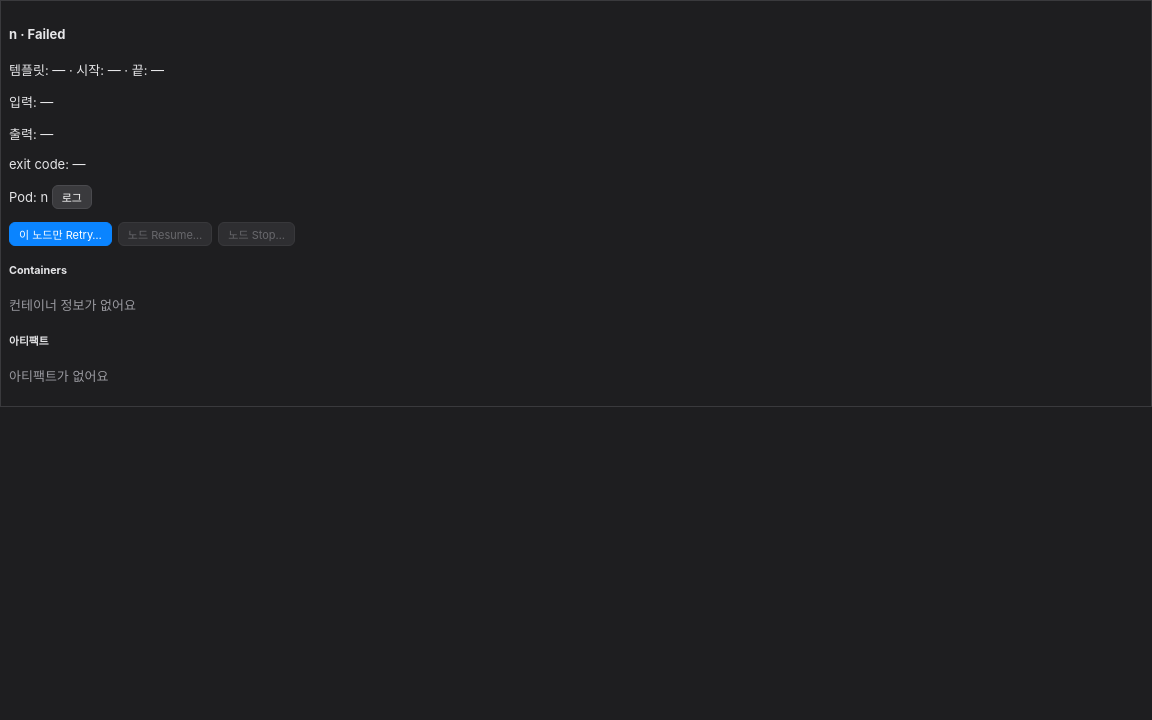
실패하면 대화상자에 서버 메시지를 보이고 닫지 않는다
The image size is (1152, 720).
Click the button "이 노드만 Retry…".
click(60, 234)  # box left=9, top=222, right=112, bottom=246
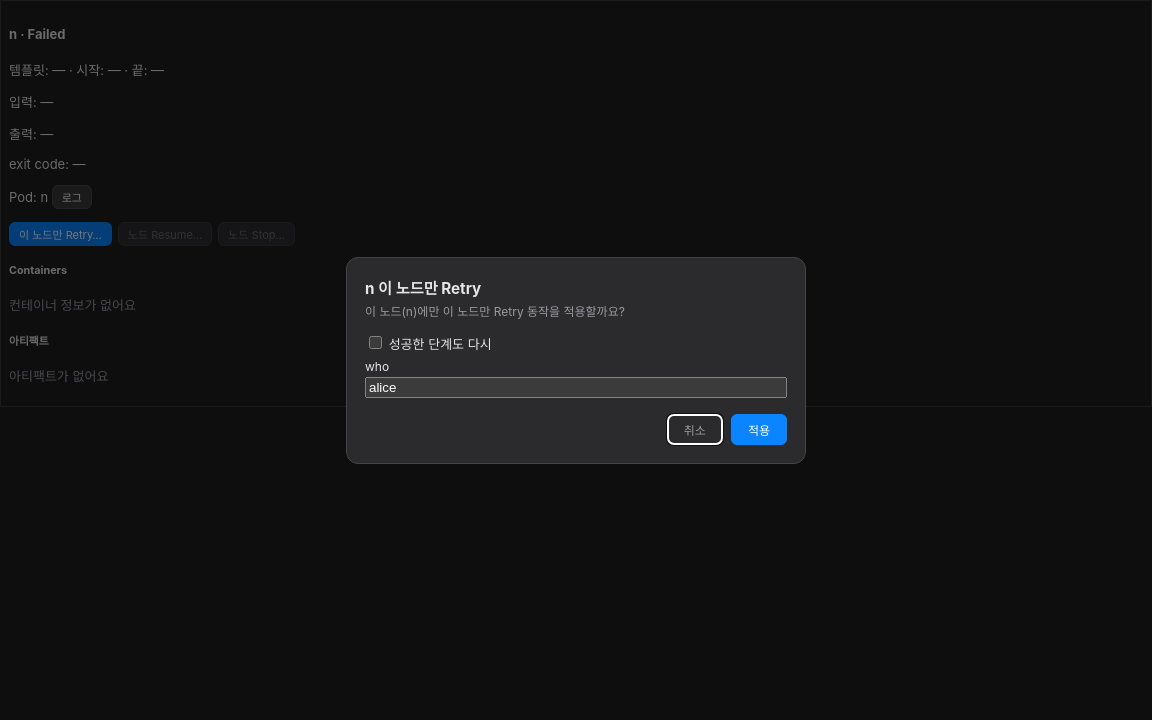
Click the button "적용".
click(759, 429)  # box left=731, top=414, right=787, bottom=444
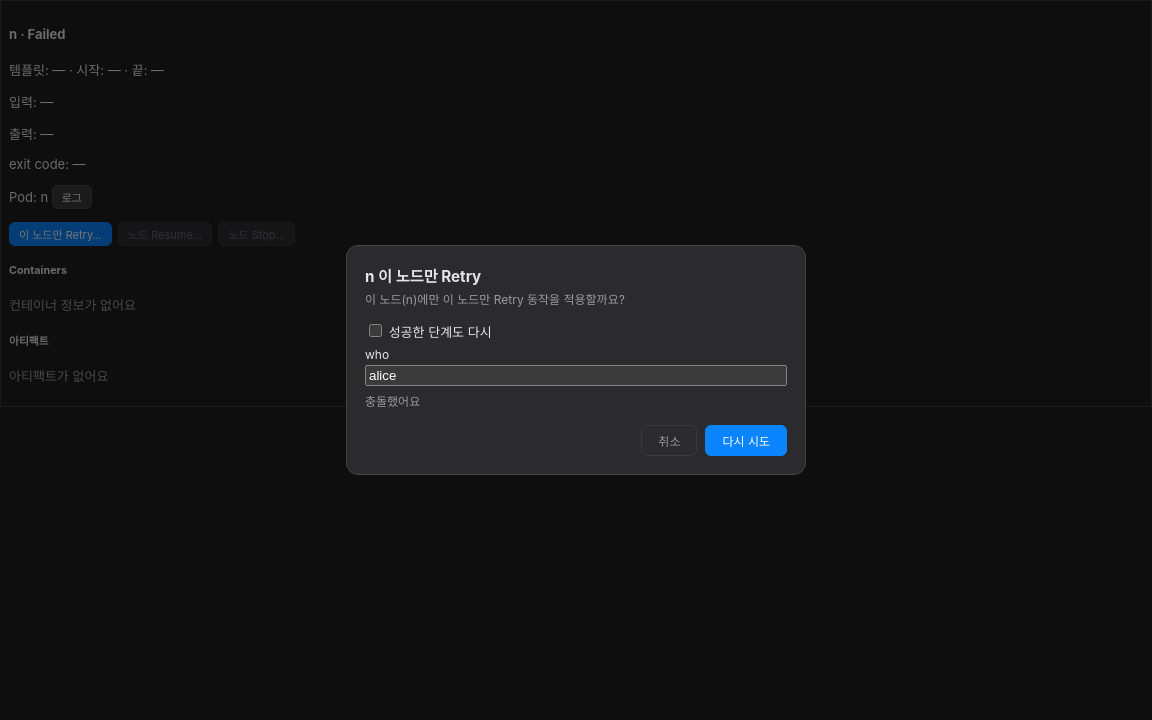
Check: the text "충돌했어요" is shown, box left=365, top=394, right=420, bottom=409
Check: the button "다시 시도" is shown, box left=706, top=425, right=787, bottom=456
